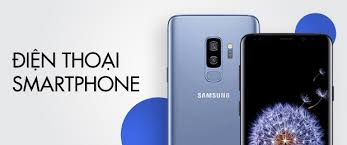samsung: (162, 13, 261, 145)
